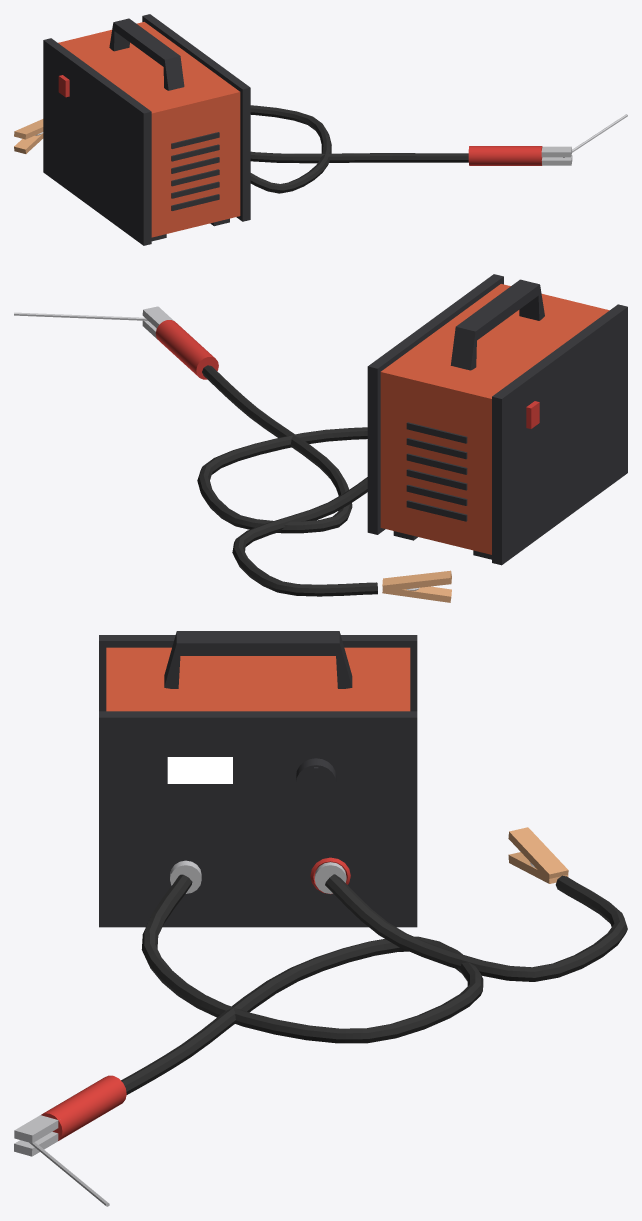
File: SM_Welder.fbx
The picture shows the model from 3 angles, top to bottom: view 1: azimuth 30°, elevation 25°; view 2: azimuth 150°, elevation 25°; view 3: azimuth 270°, elevation 25°; orthographic projection. The views are drawn at different scales.
Visible parts, largest first — view 1: SM_Welder; view 2: SM_Welder; view 3: SM_Welder.
Boxes of the visible parts, x1,y1,x2,y2 form: SM_Welder: (14,14,627,245); SM_Welder: (14,274,627,602); SM_Welder: (14,631,627,1206).
Bounding box in the file's own units: 1.24 × 0.3937 × 0.8484.
